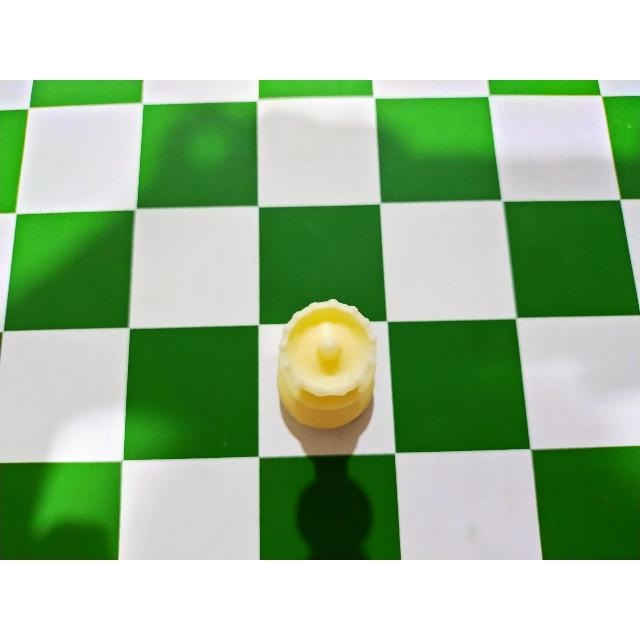white-queen: (262, 286, 388, 442)
